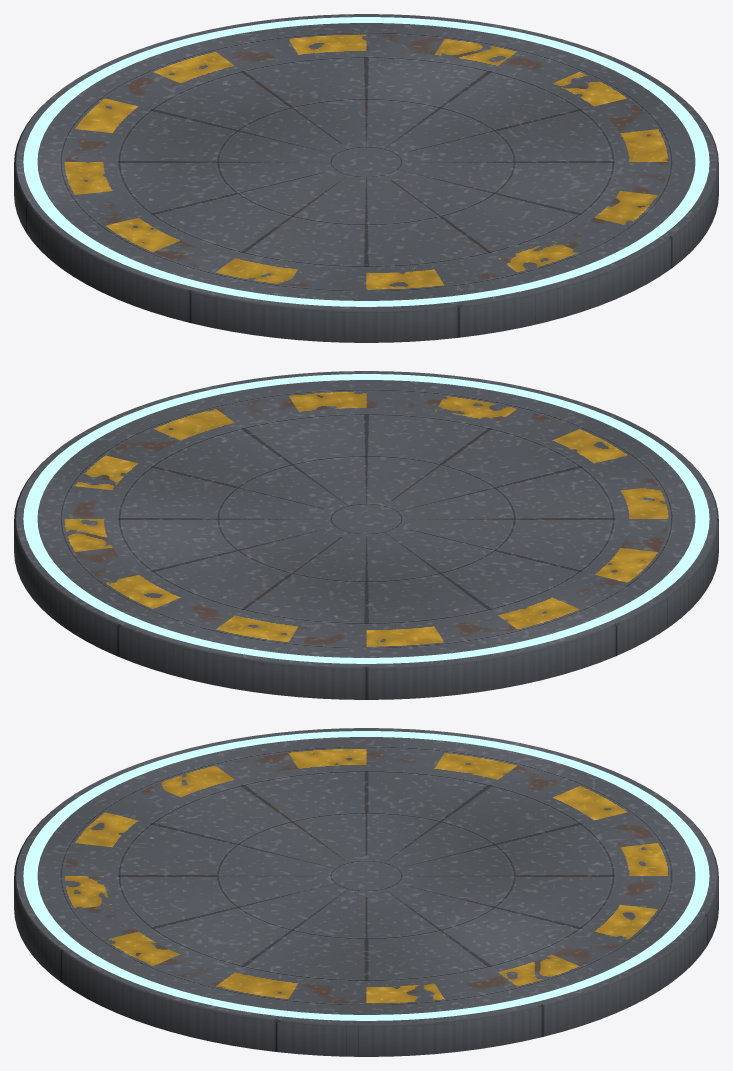
Rendered from SM_ExtractionPlatform_01.glb.
The picture shows the model from 3 angles, top to bottom: view 1: azimuth 30°, elevation 25°; view 2: azimuth 150°, elevation 25°; view 3: azimuth 270°, elevation 25°; orthographic projection.
Parts seen in each view (by area): view 1: SM_ExtractionPlatform_01; view 2: SM_ExtractionPlatform_01; view 3: SM_ExtractionPlatform_01.
Boxes of the visible parts, <box> form: SM_ExtractionPlatform_01: <box>14,14,718,342</box>; SM_ExtractionPlatform_01: <box>14,371,718,699</box>; SM_ExtractionPlatform_01: <box>14,728,718,1056</box>.
Size of the model in its own units: 6 by 0.301 by 6.
Materials: 2 (1 with a texture image).
